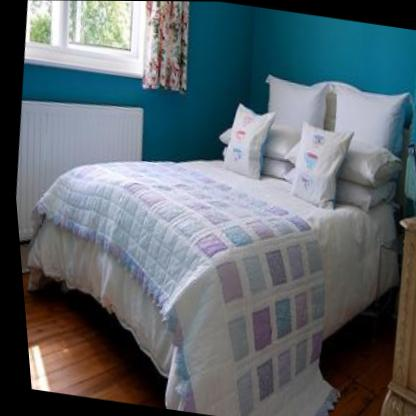Bed: (26, 75, 411, 416)
Wooden floor: (18, 274, 143, 403)
